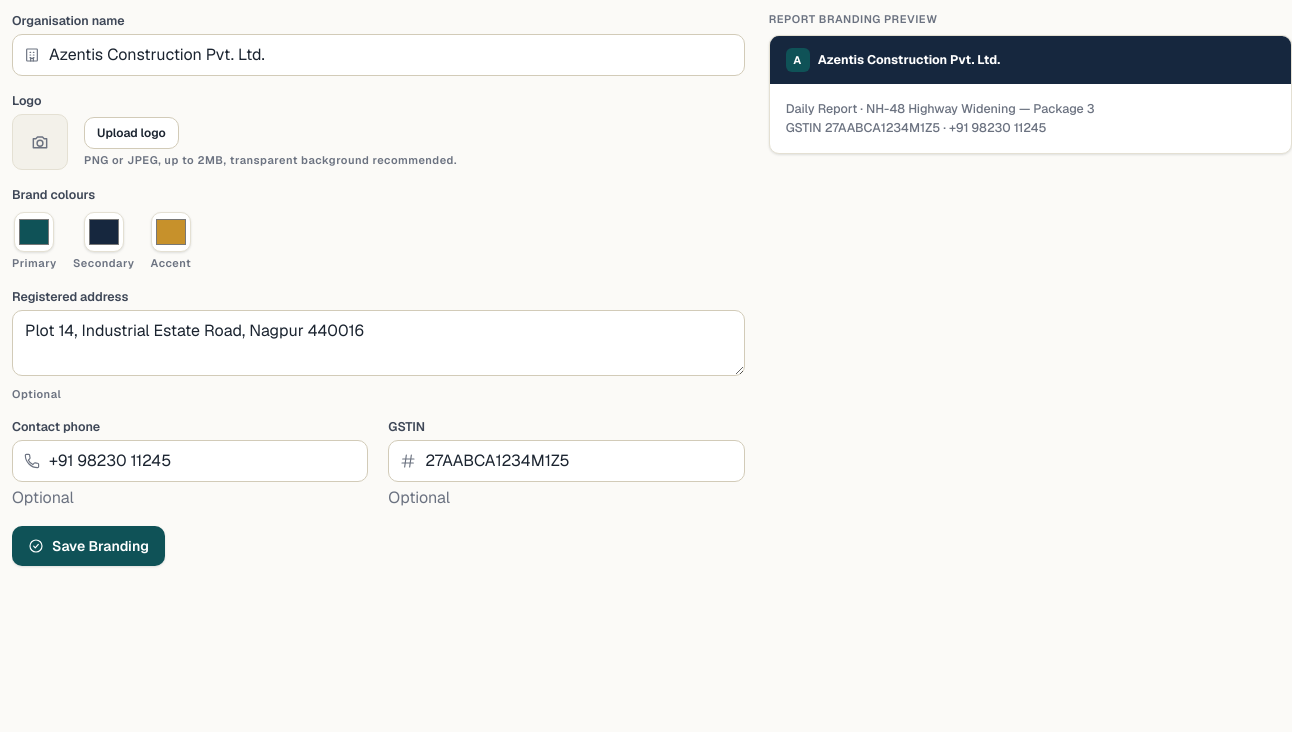
it: BrandingForm (Story 14.1) › surfaces a server error state instead of failing silently (AD-6)
The image size is (1292, 732).
Click the button "Save Branding" at point(88, 546), box [12,526,165,566]
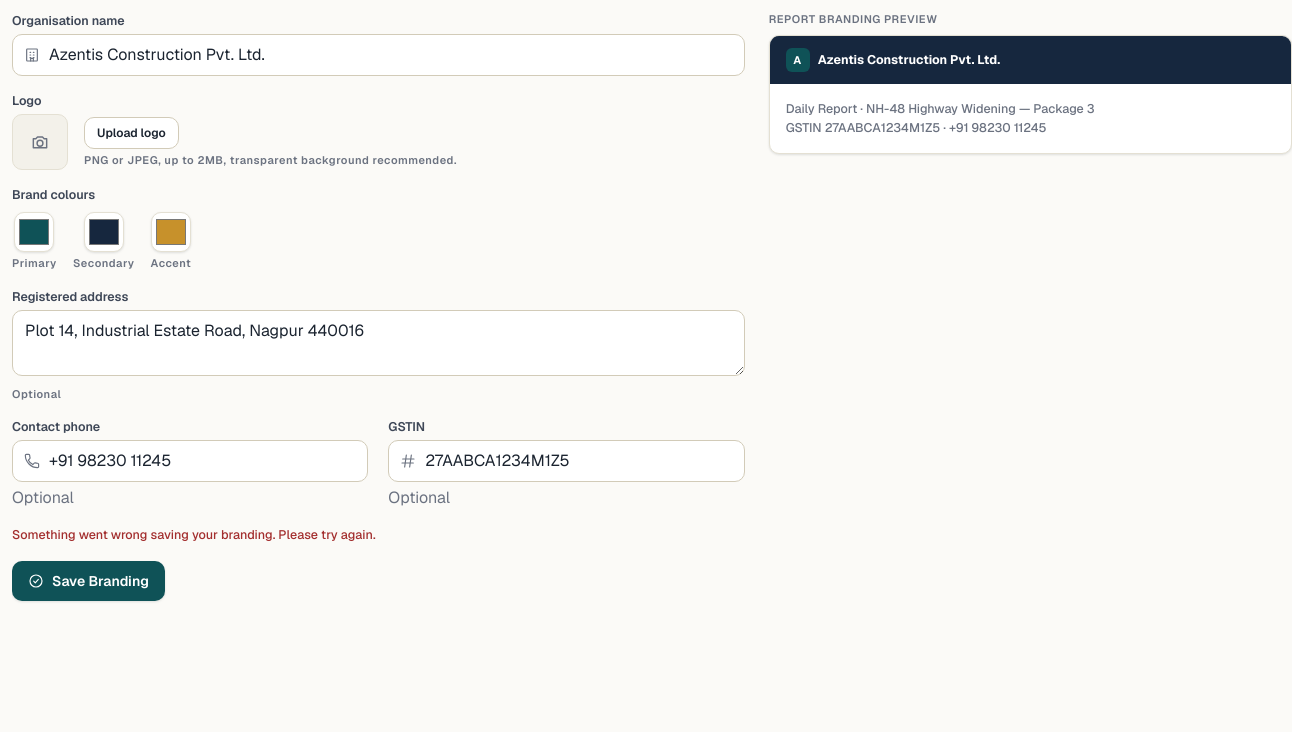
Now the message shows "Something went wrong", box [12,526,376,543]
